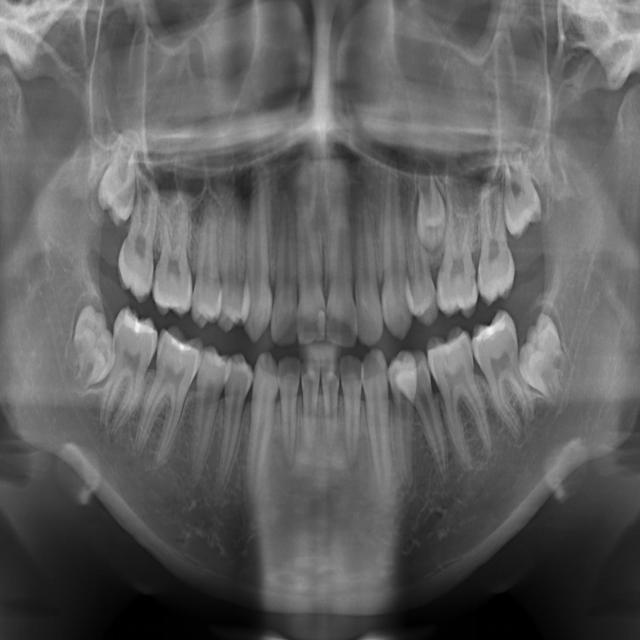3M ESPE Implant: (136, 150, 136, 152)
AGS Medikal Implant: (347, 191, 385, 348)
AMerOss Implant: (368, 150, 415, 342)
Amalgam filling: (398, 202, 441, 329)
Anthogyr Implant: (417, 158, 445, 255)
Bicon Implant: (434, 175, 478, 320)
BioHorizons Implant: (472, 182, 517, 306)
BioLife Implant: (491, 145, 547, 239)
Biomet 3i Implant: (504, 308, 586, 417)
Blue Sky Bio Implant: (464, 305, 542, 446)
Camlog Implant: (421, 322, 497, 472)
Caries: (114, 156, 162, 306)
Composite filling: (403, 349, 455, 488)
Cowellmedi Implant: (385, 347, 417, 495)
Crown: (361, 347, 394, 507)
DENTSPLY Implant: (339, 354, 365, 469)
Dentatus Implant: (319, 351, 343, 456)
Dentis Implant: (300, 351, 320, 458)
Dentium Implant: (277, 354, 300, 471)
Euroteknika Implant: (242, 350, 281, 506)
Filling: (210, 350, 255, 498)
Frontier Implant: (182, 343, 228, 486)
Hiossen Implant: (150, 180, 200, 320)
Implant: (109, 429, 109, 430)
Implant Direct: (126, 320, 206, 473)
Keystone Dental Implant: (61, 302, 115, 398)
MIS Implant: (190, 193, 219, 330)
Mandible: (217, 181, 246, 335)
Maxilla: (243, 156, 276, 345)
Megagen Implant: (270, 190, 298, 348)
Neodent Implant: (291, 187, 326, 346)
Neoss Implant: (320, 196, 357, 351)
